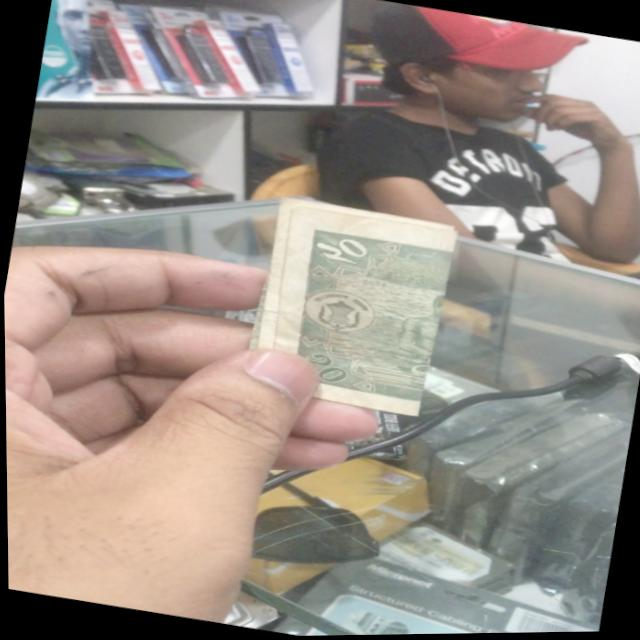Taka: (257, 199, 457, 419)
